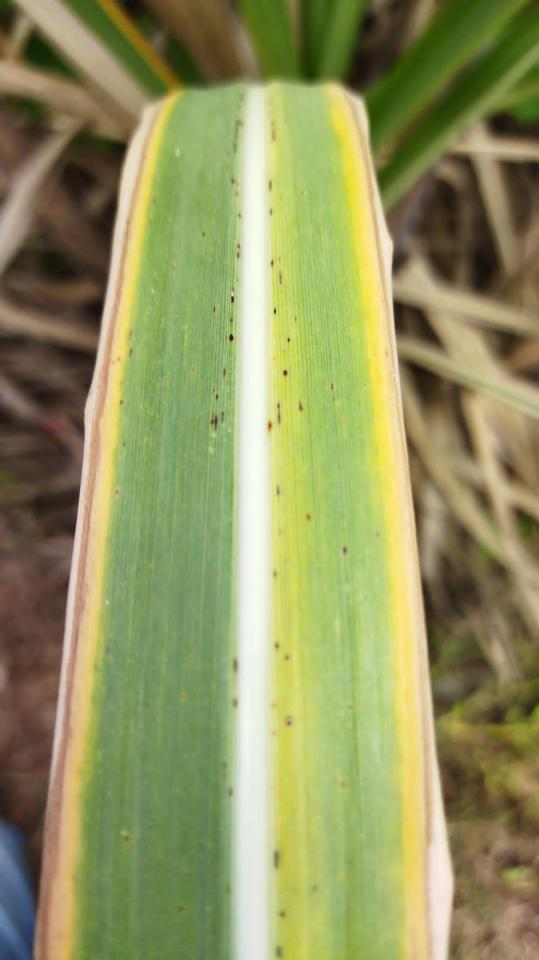Rust: (206, 363, 231, 438), (224, 287, 238, 346), (266, 399, 283, 435), (230, 655, 241, 708), (271, 640, 293, 665), (233, 117, 246, 155), (271, 849, 282, 871), (275, 907, 290, 923), (282, 713, 295, 730), (230, 178, 240, 199), (269, 119, 277, 145), (302, 511, 316, 525), (339, 543, 352, 557), (274, 483, 285, 499), (234, 243, 244, 260), (273, 944, 284, 959), (296, 397, 305, 415), (282, 367, 291, 381), (286, 333, 295, 347), (328, 379, 337, 393), (272, 568, 281, 582), (278, 270, 284, 287), (271, 305, 279, 316), (268, 178, 274, 192), (210, 303, 217, 314), (236, 210, 243, 221), (269, 207, 274, 218), (270, 258, 275, 268)
Yellow: (63, 92, 185, 959), (322, 89, 423, 959), (267, 85, 322, 959), (94, 0, 182, 91)
